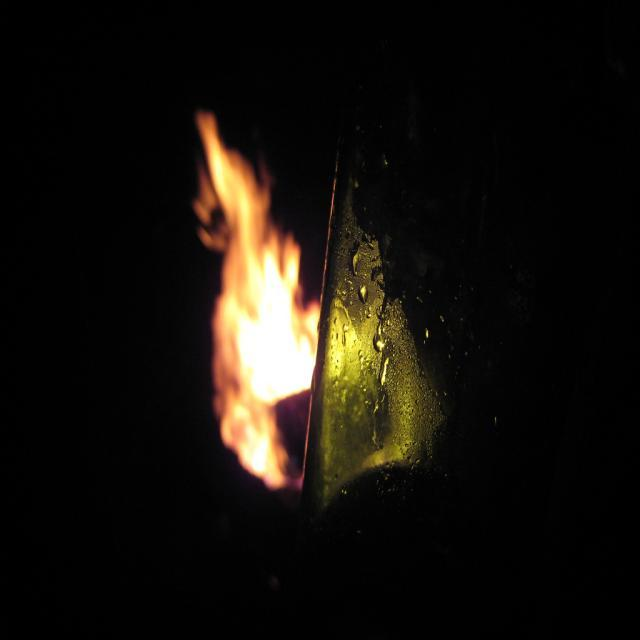Fire: (234, 275, 296, 403)
